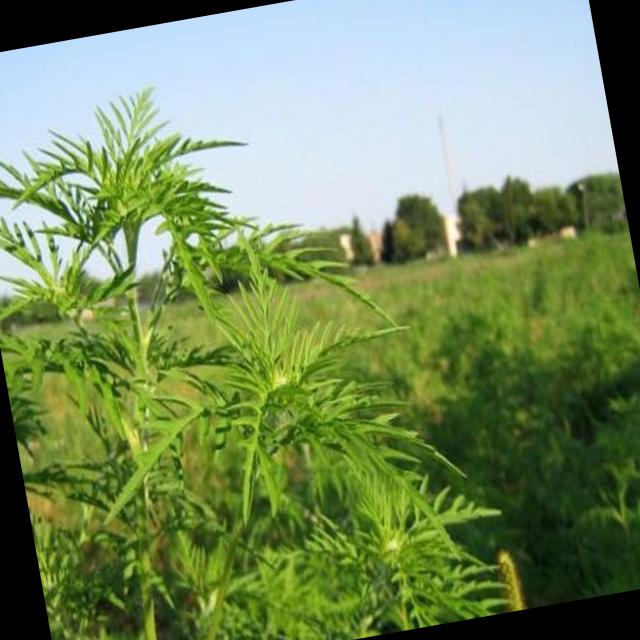ambrosia: (0, 80, 247, 344), (203, 282, 387, 504)
